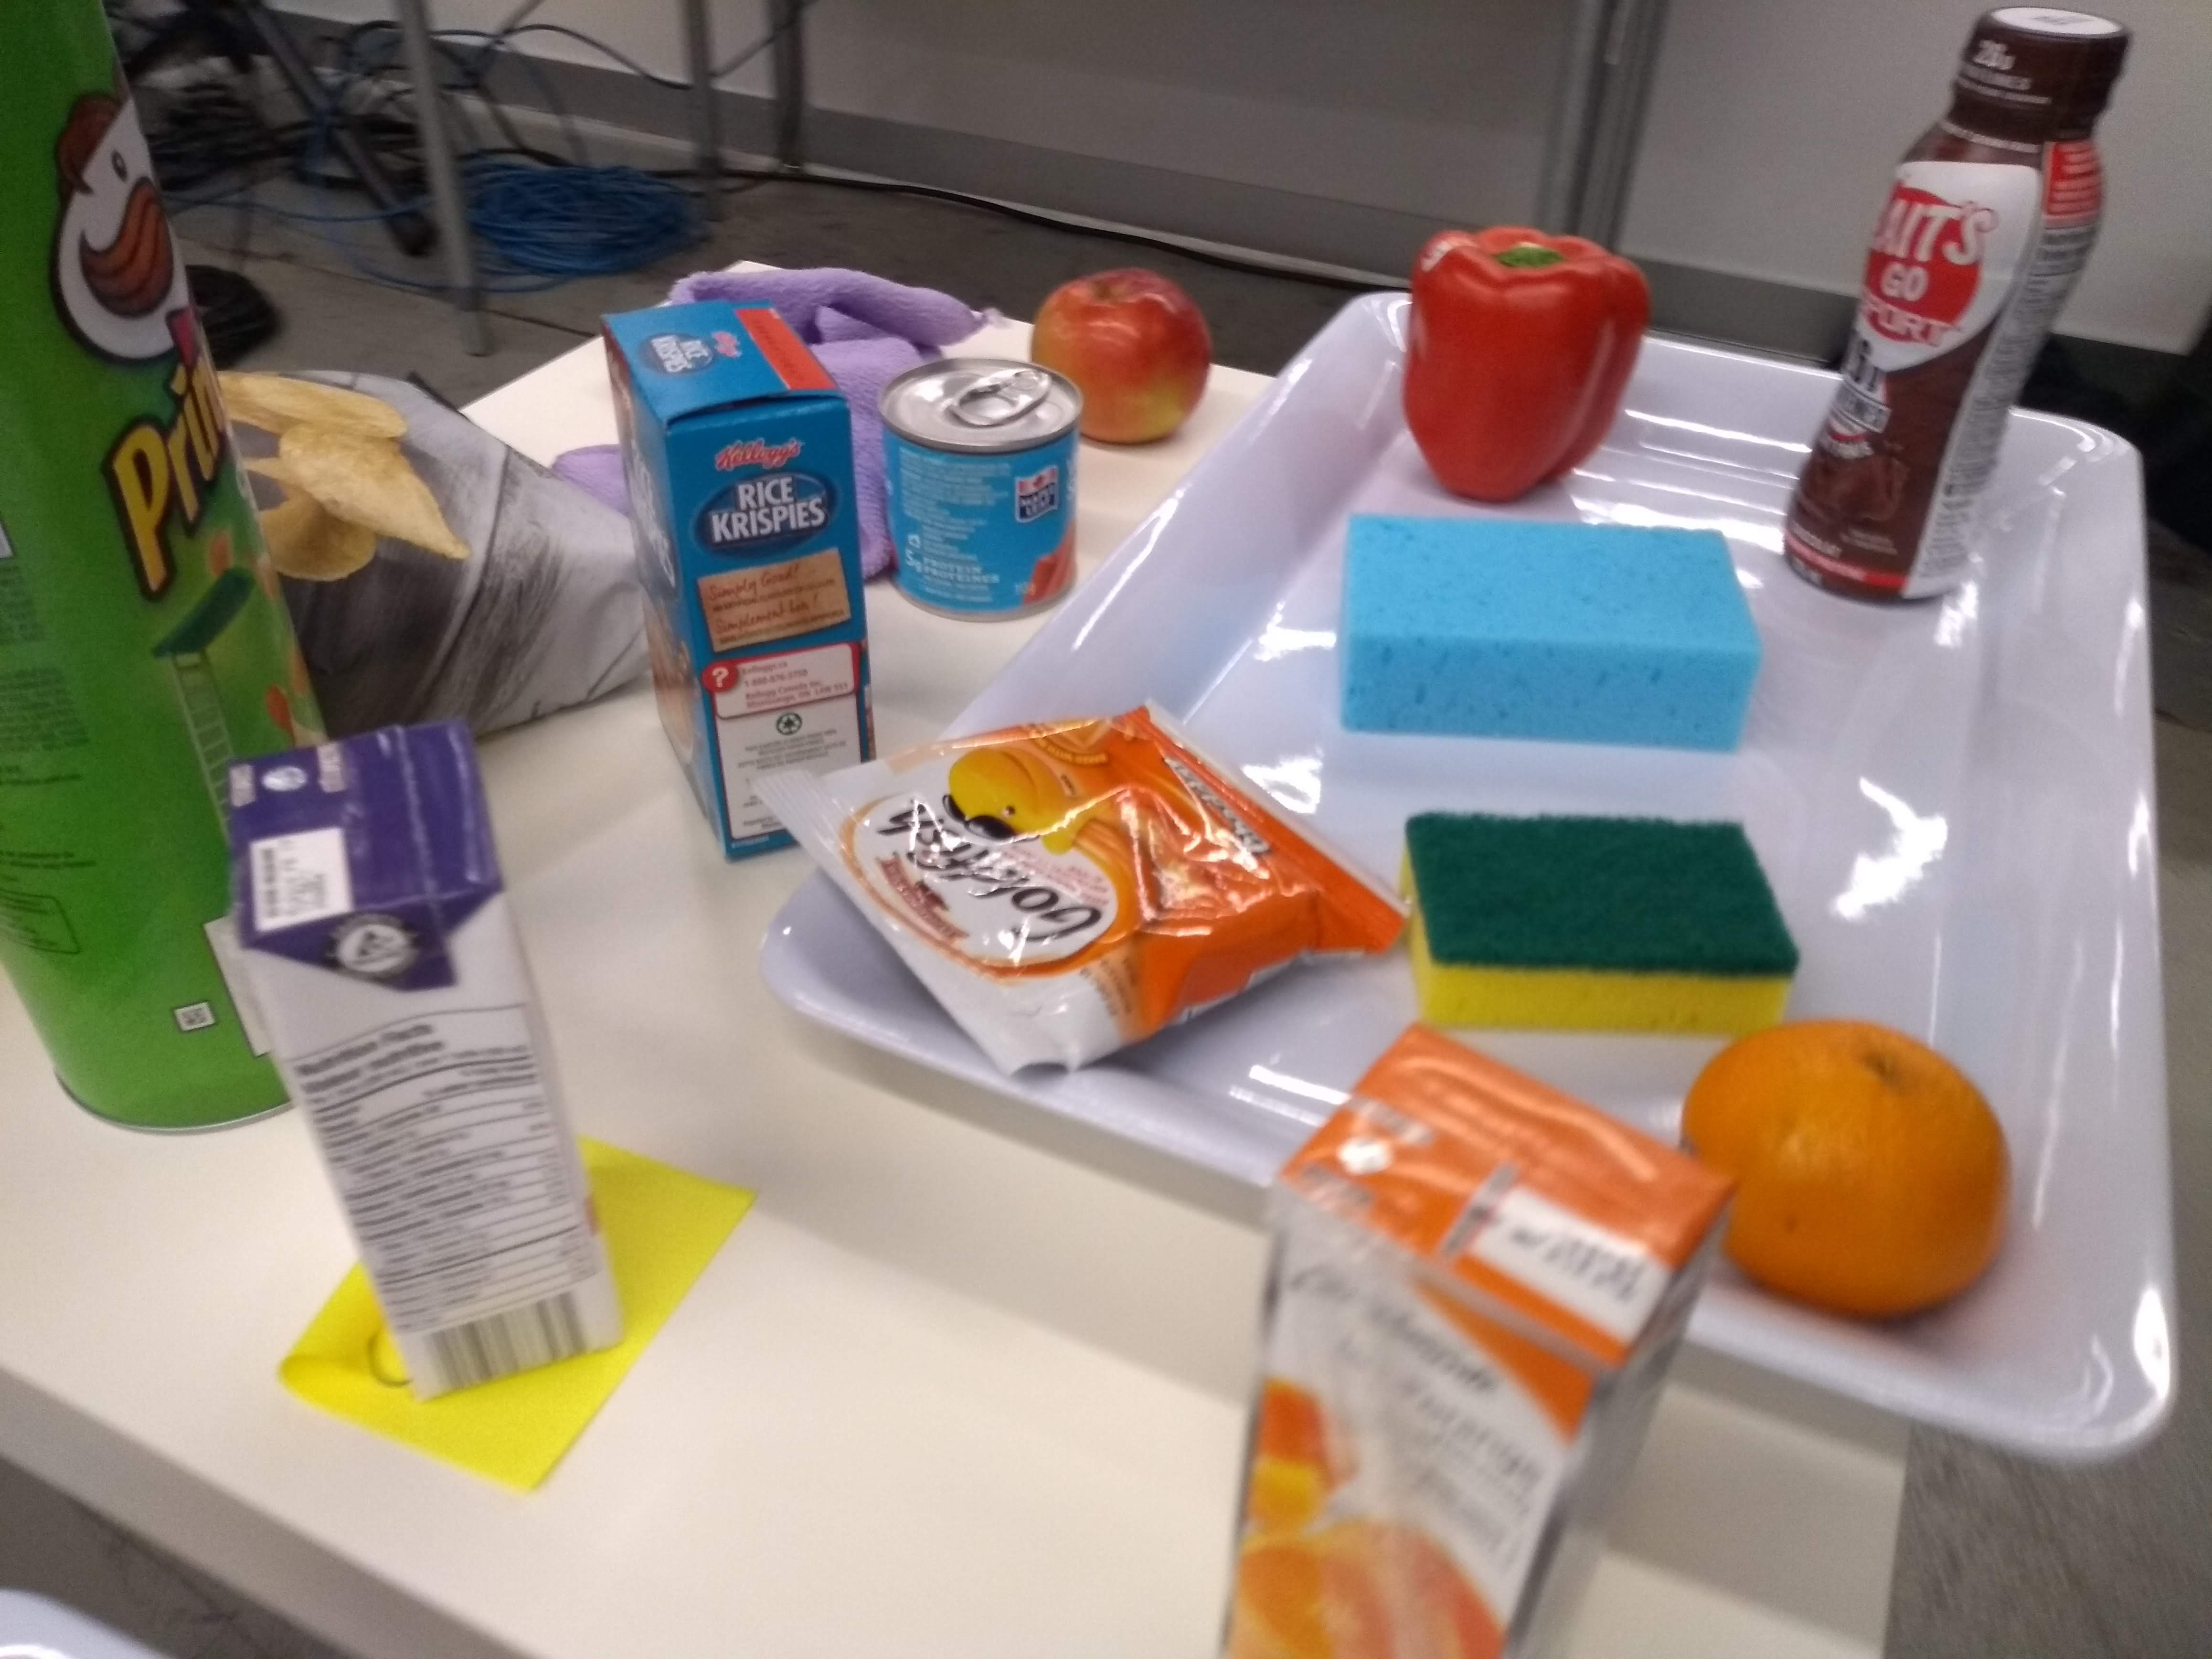apple: (1019, 260, 1219, 453)
cereal: (592, 289, 897, 873)
chocolate_drink: (1770, 9, 2142, 624)
crackers: (744, 690, 1420, 1103)
grape_juice: (206, 709, 636, 1412)
orange: (1670, 1011, 2026, 1342)
paprika: (1393, 213, 1662, 512)
sausages: (871, 355, 1092, 629)
scrubby: (1386, 798, 1810, 1049)
sponge_opl: (1327, 502, 1773, 767)
